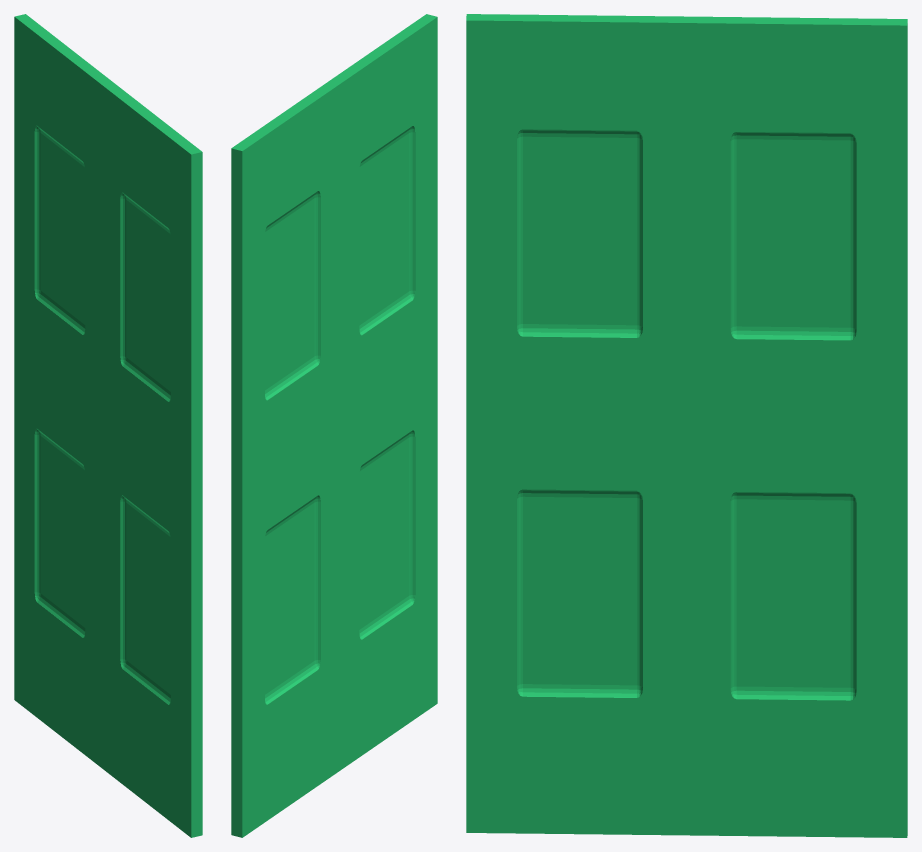
File: indoor.obj
3 renders of one model, left to right at view 1: azimuth 30°, elevation 25°; view 2: azimuth 150°, elevation 25°; view 3: azimuth 270°, elevation 25°, orthographic. The views are drawn at different scales.
Visible parts, largest first — view 1: Cube.121_Cube.001; view 2: Cube.121_Cube.001; view 3: Cube.121_Cube.001.
Part boxes in pixels (x1,y1,x2,y2): Cube.121_Cube.001: (14,14,202,837); Cube.121_Cube.001: (231,14,437,837); Cube.121_Cube.001: (466,14,907,837).
Bounding box in the file's own units: 0.208 × 6.8 × 3.35.
